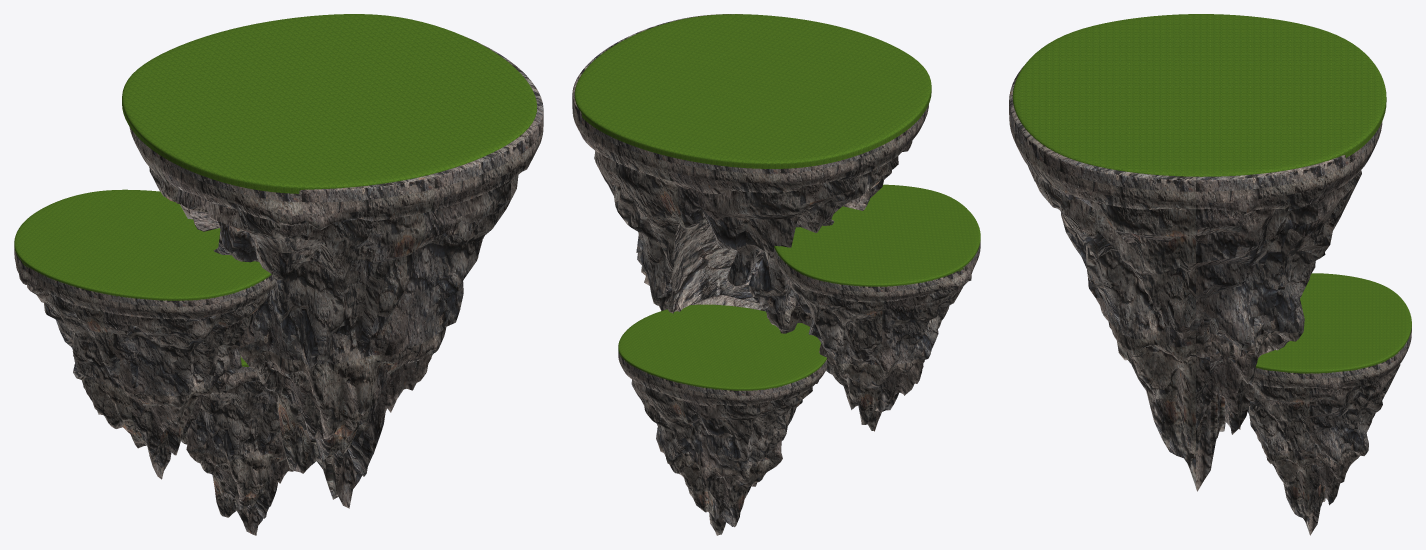
The picture shows the model from 3 angles, left to right: view 1: azimuth 30°, elevation 25°; view 2: azimuth 150°, elevation 25°; view 3: azimuth 270°, elevation 25°; orthographic projection. The views are drawn at different scales.
Visible parts, largest first — view 1: island001, grass001, island003, grass002, island005; view 2: grass001, island001, island005, island003, grass002, grass003; view 3: island001, grass001, island005, grass003.
Part boxes in pixels (x1,y1,x2,y2): island001: (129,37,543,508); grass001: (122,14,537,193); island003: (14,248,275,479); grass002: (14,189,271,300); island005: (181,366,293,535); grass001: (574,14,931,168); island001: (572,14,928,333); island005: (618,350,827,535); island003: (773,241,980,431); grass002: (774,184,980,286); grass003: (618,304,826,390); island001: (1009,66,1382,491); grass001: (1012,14,1386,176); island005: (1242,327,1411,535); grass003: (1255,273,1411,373).
Size of the model in its own units: 61.24 by 61.08 by 49.6.
